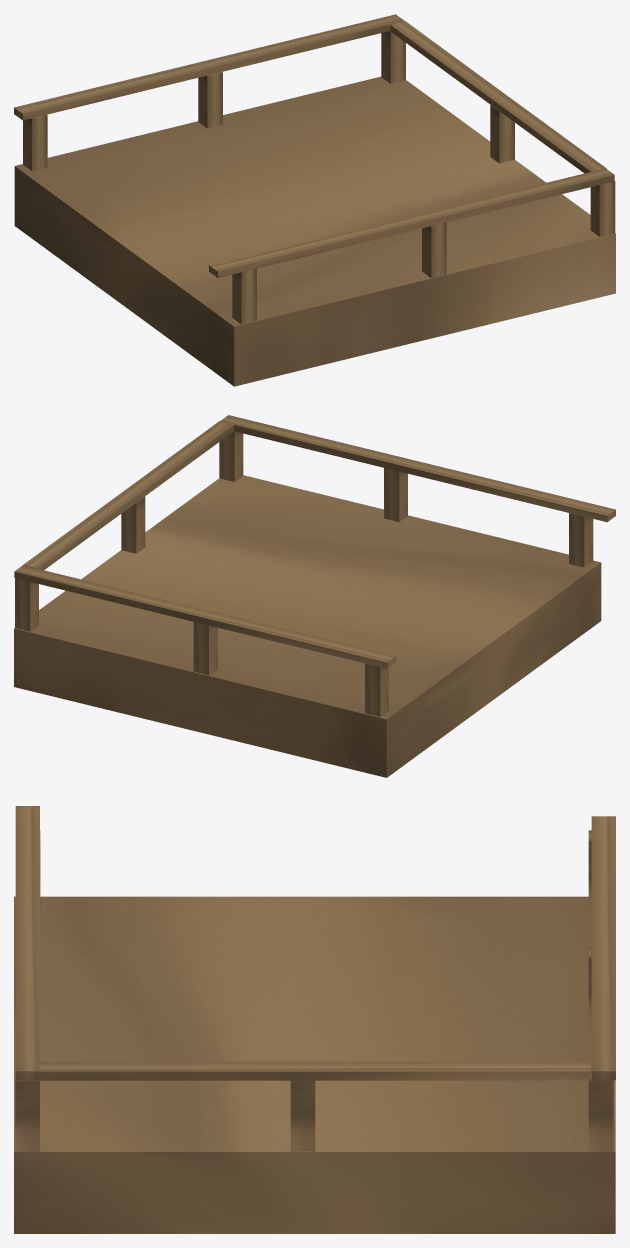
The model's file is bridge_2.fbx.
The picture shows the model from 3 angles, top to bottom: view 1: azimuth 30°, elevation 25°; view 2: azimuth 150°, elevation 25°; view 3: azimuth 270°, elevation 25°; orthographic projection. The views are drawn at different scales.
Visible parts, largest first — view 1: polySurface3; view 2: polySurface3; view 3: polySurface3.
Boxes of the visible parts, x1=… form: polySurface3: x1=14, y1=14, x2=615, y2=386; polySurface3: x1=14, y1=415, x2=615, y2=777; polySurface3: x1=14, y1=806, x2=615, y2=1233.
Bounding box in the file's own units: 21.39 × 6.09 × 20.48.
